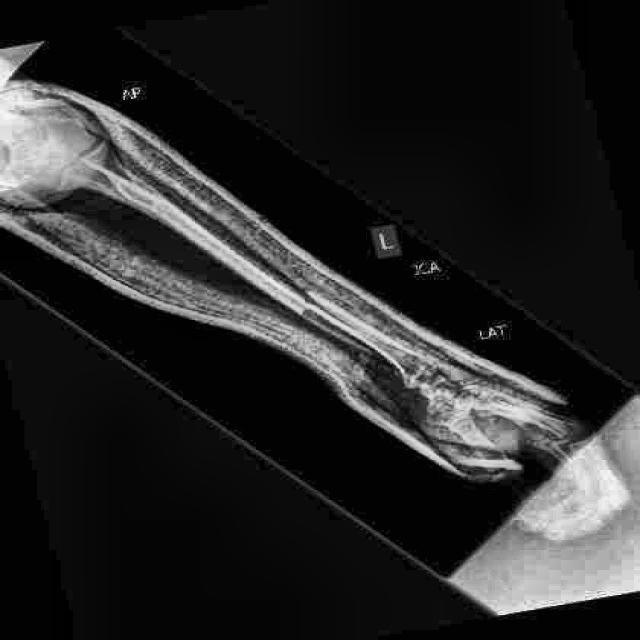forearm fracture: (272, 268, 361, 342)
